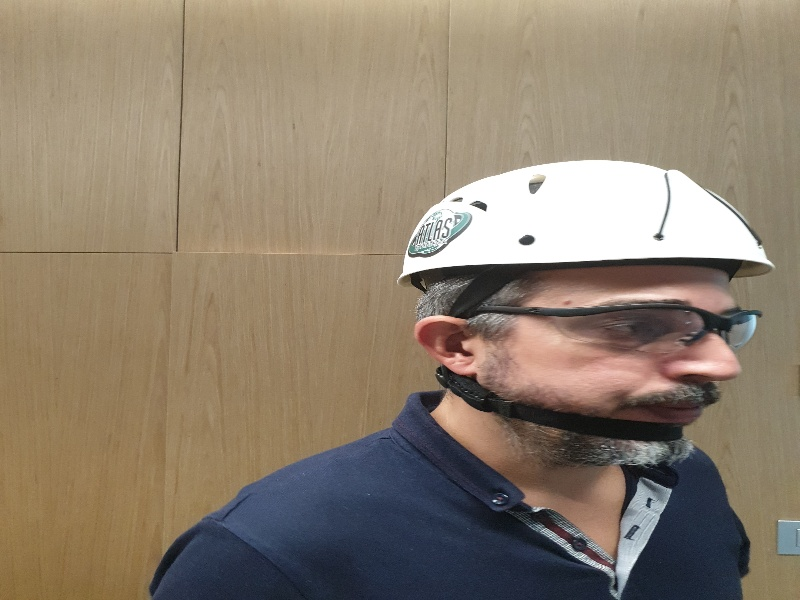Baret: (397, 161, 775, 287)
Gozluk: (478, 304, 764, 359)
